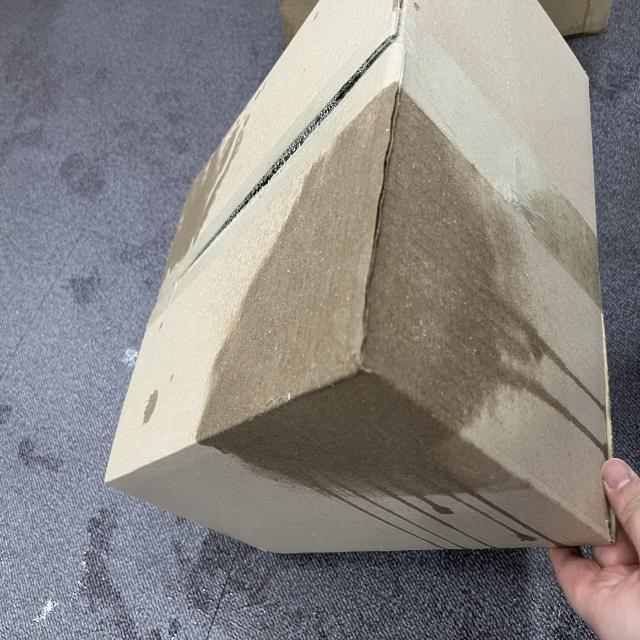wet: (198, 84, 610, 546)
